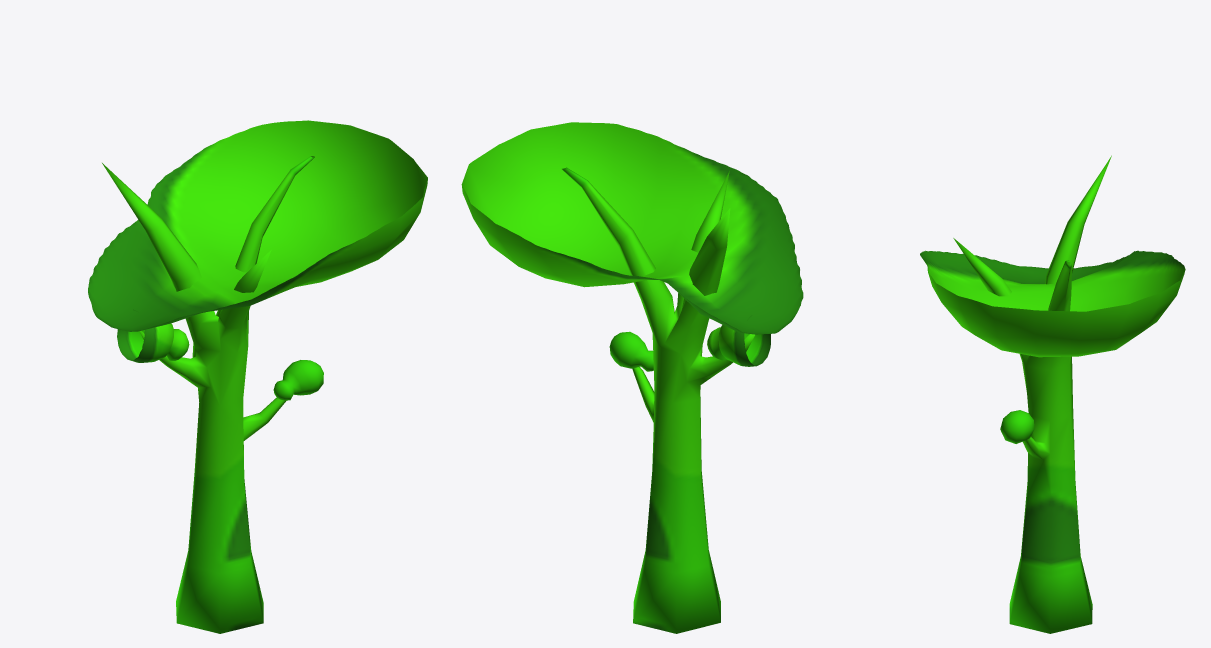
Rendered from Tree_01.FBX.
3 views of the same model, side by side, from view 1: azimuth 30°, elevation 25°; view 2: azimuth 150°, elevation 25°; view 3: azimuth 270°, elevation 25° (orthographic). The views are drawn at different scales.
Visible parts, largest first — view 1: Tree_01; view 2: Tree_01; view 3: Tree_01.
Part boxes in pixels (box(x1,y1,x2,y2)): Tree_01: box(88, 120, 427, 633); Tree_01: box(461, 122, 803, 633); Tree_01: box(920, 155, 1185, 633).
Size of the model in its own units: 246 by 174 by 372.
